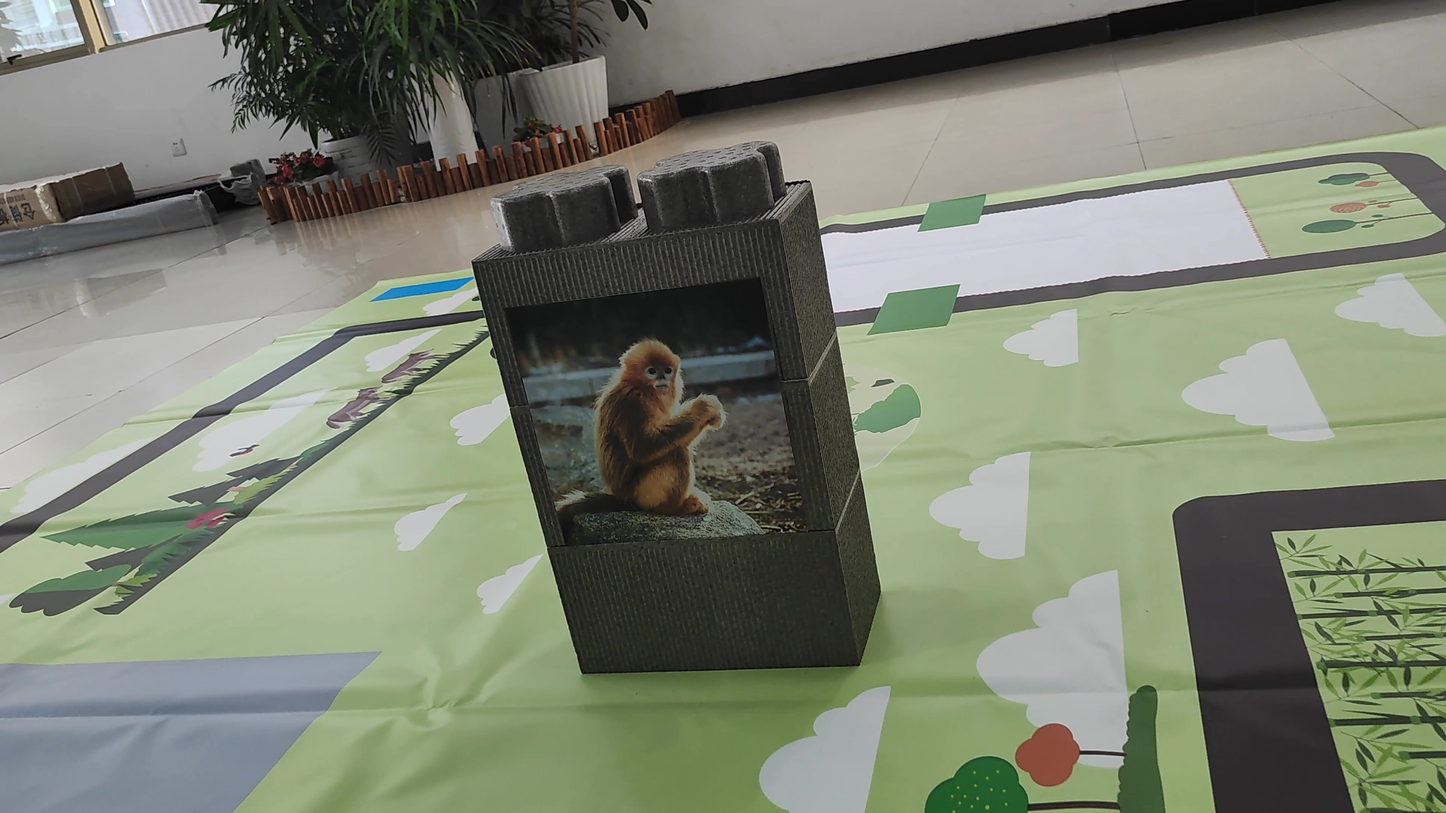monkey: (543, 286, 787, 536)
